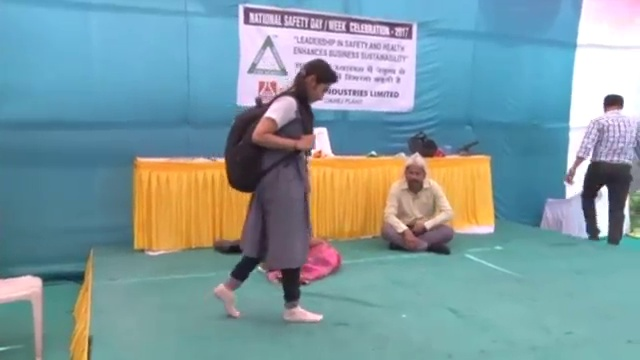helmet_off: (295, 60, 339, 105), (403, 154, 427, 192), (601, 93, 626, 115)
person: (213, 59, 340, 326), (562, 93, 640, 246), (376, 151, 456, 255)
